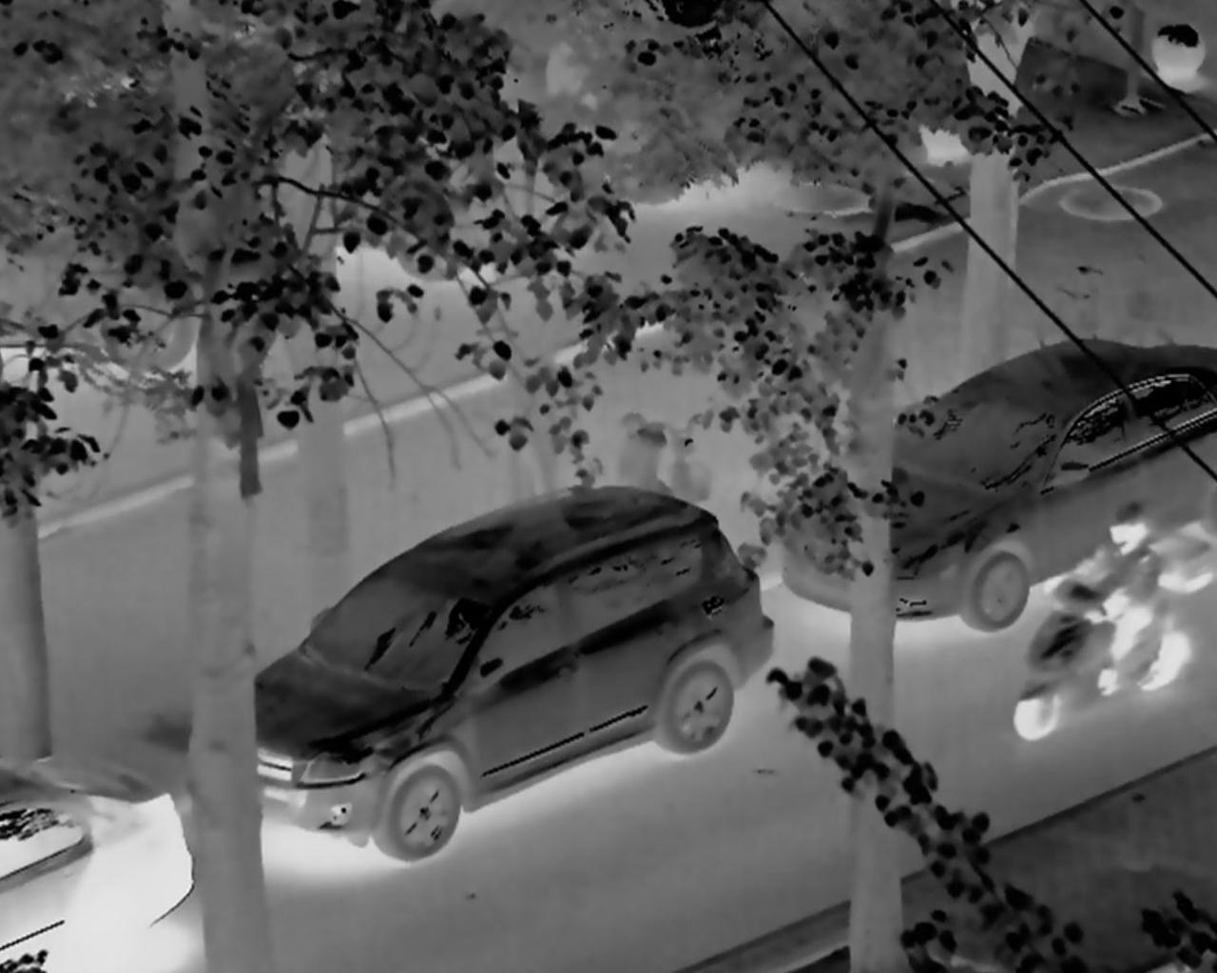person: (1025, 497, 1204, 754)
